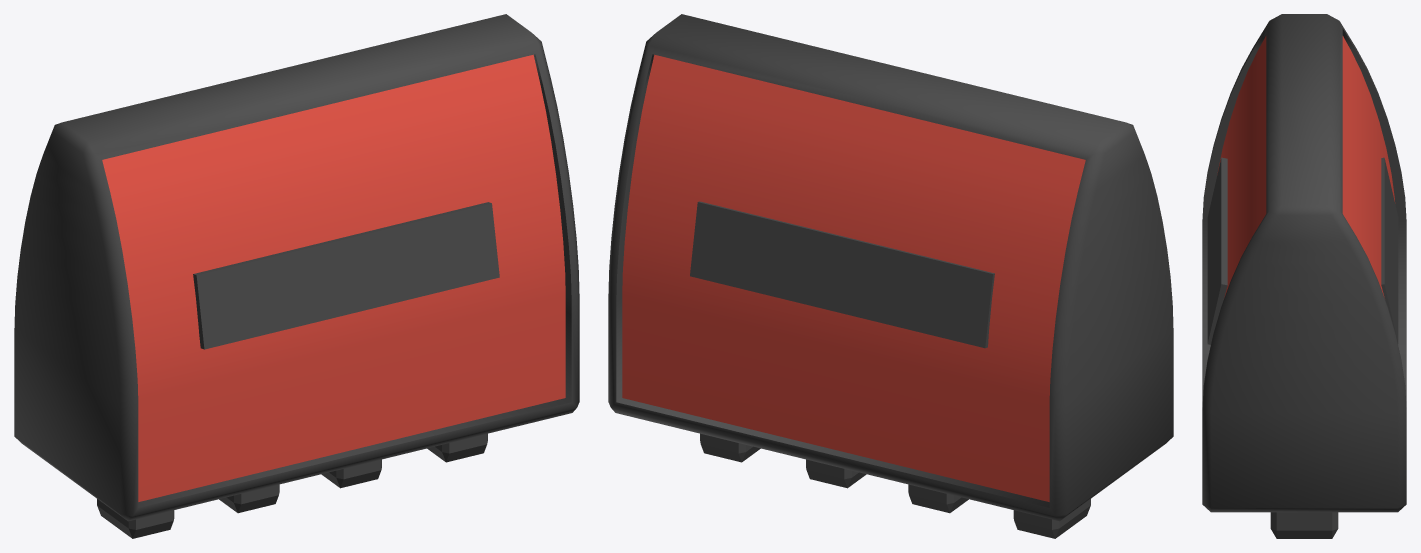
File: signal2.fbx
3 renders of one model, left to right at view 1: azimuth 30°, elevation 25°; view 2: azimuth 150°, elevation 25°; view 3: azimuth 270°, elevation 25°, orthographic. The views are drawn at different scales.
Parts seen in each view (by area): view 1: Cube.032, Cube.033; view 2: Cube.032, Cube.033; view 3: Cube.032, Cube.033.
Boxes of the visible parts, x1,y1,x2,y2 form: Cube.032: (14, 14, 579, 521); Cube.033: (97, 433, 487, 538); Cube.032: (608, 14, 1173, 521); Cube.033: (700, 433, 1090, 538); Cube.032: (1202, 14, 1406, 512); Cube.033: (1270, 512, 1338, 538).
Size of the model in its own units: 82.71 by 69.87 by 36.24.
